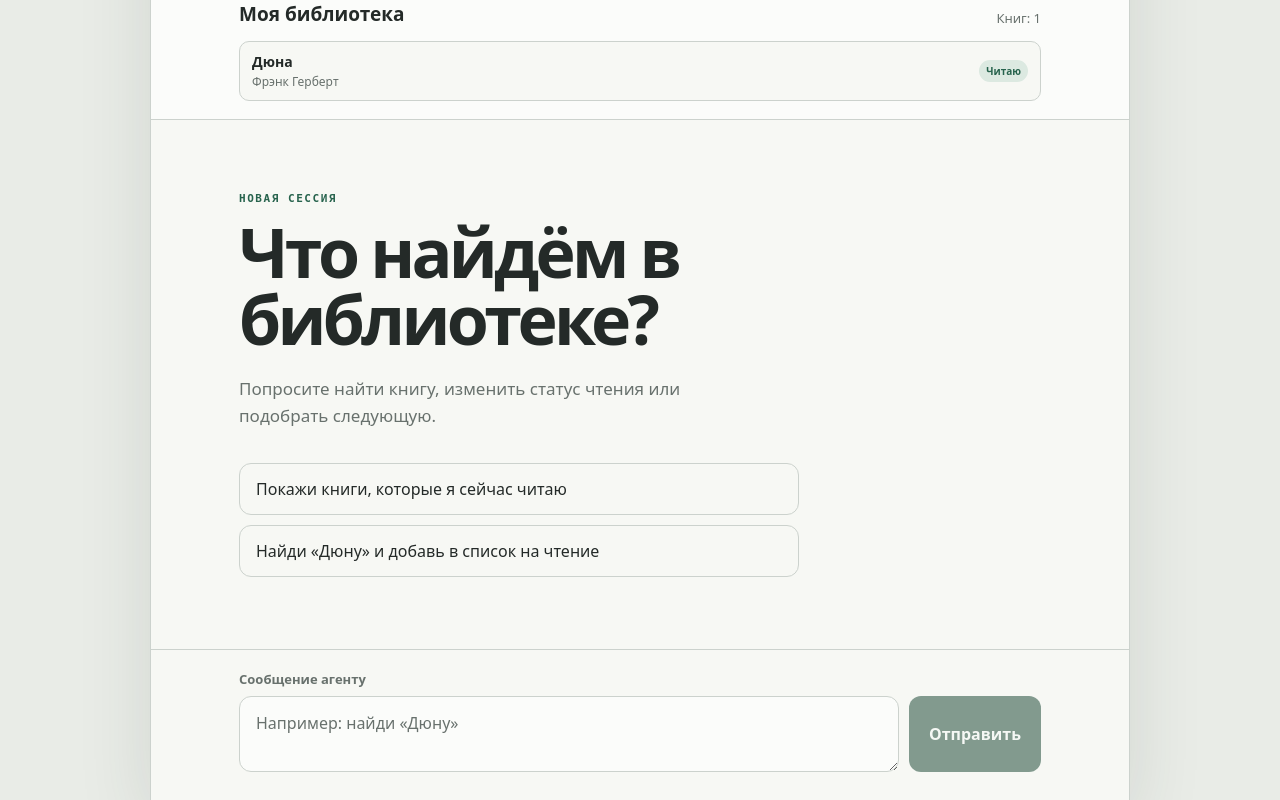
Test: Library panel and MVP scenarios › passes the current-reading MVP without refreshing a read-only run
(page scrolled)
In the text box labelled "Сообщение агенту": (569, 734) [239,696,899,772], type "Покажи книги, которые я сейчас читаю"
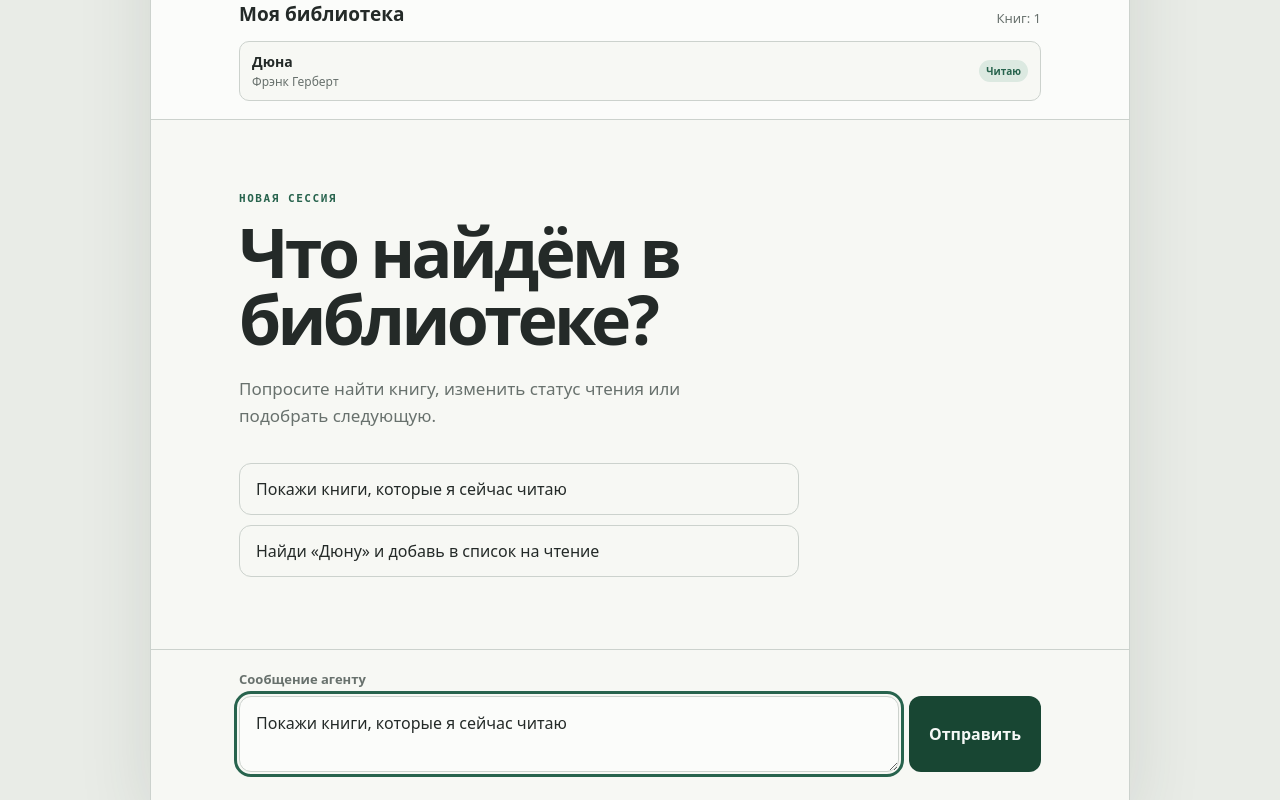
Click the button "Отправить": click(975, 734) [909,696,1041,772]
(page scrolled)
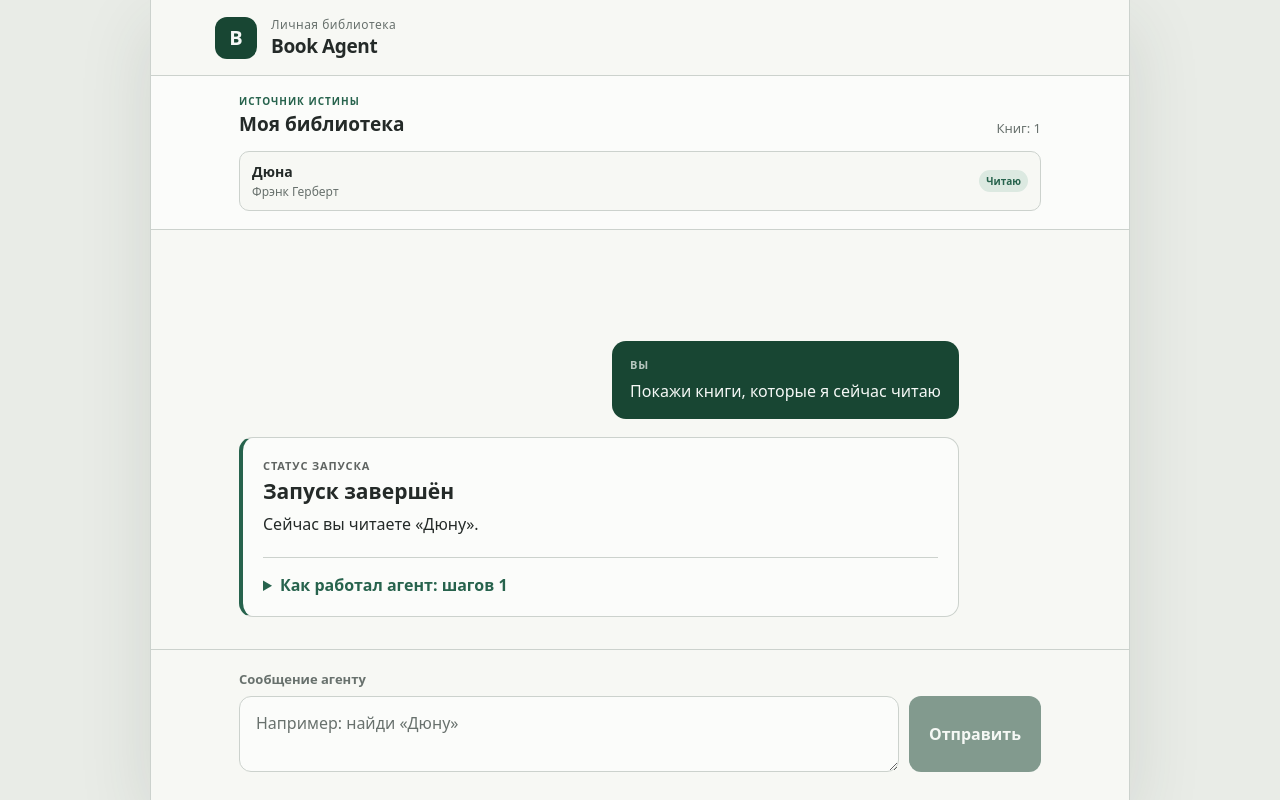
Expected: the heading "Дюна" is shown, [252,162,293,181]
Expected: the text "Сейчас вы читаете «Дюну»." is shown, [263,513,479,535]
